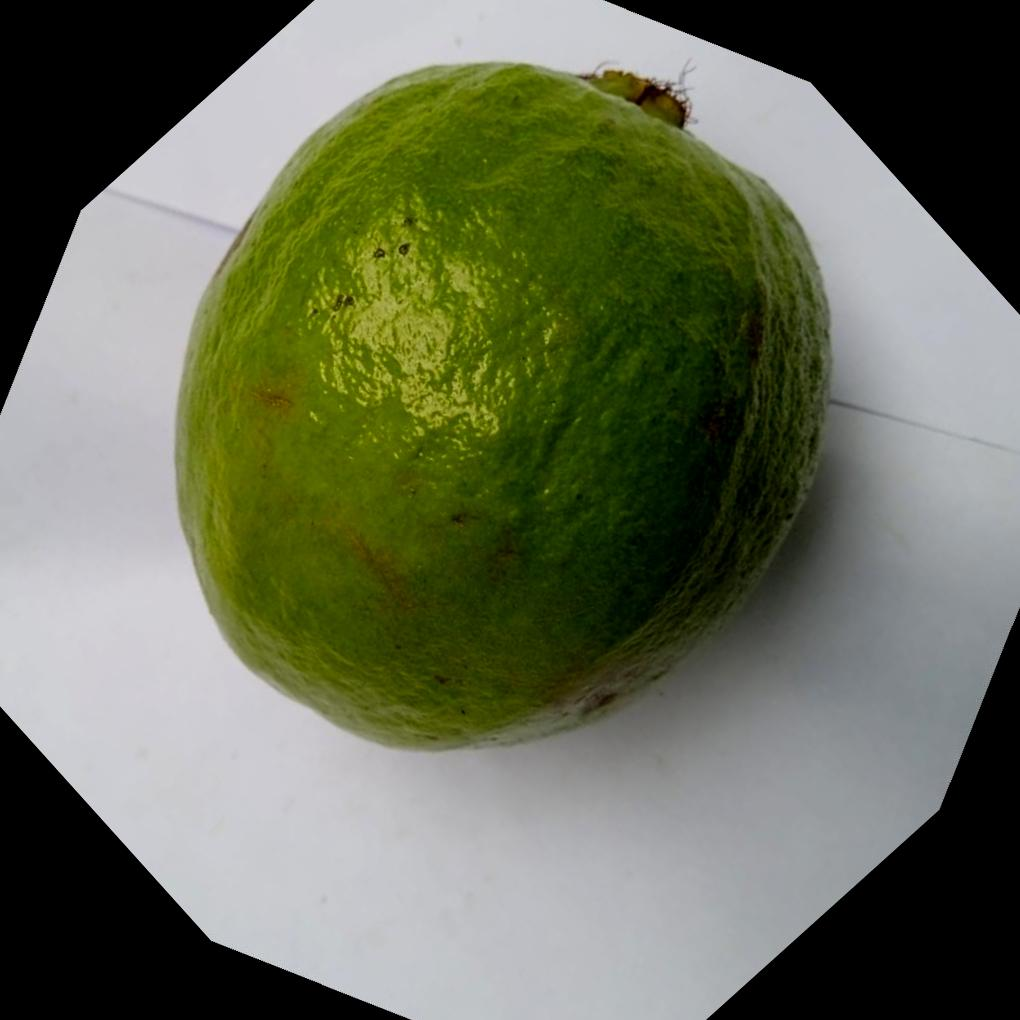FreshGuava: (172, 61, 835, 758)
